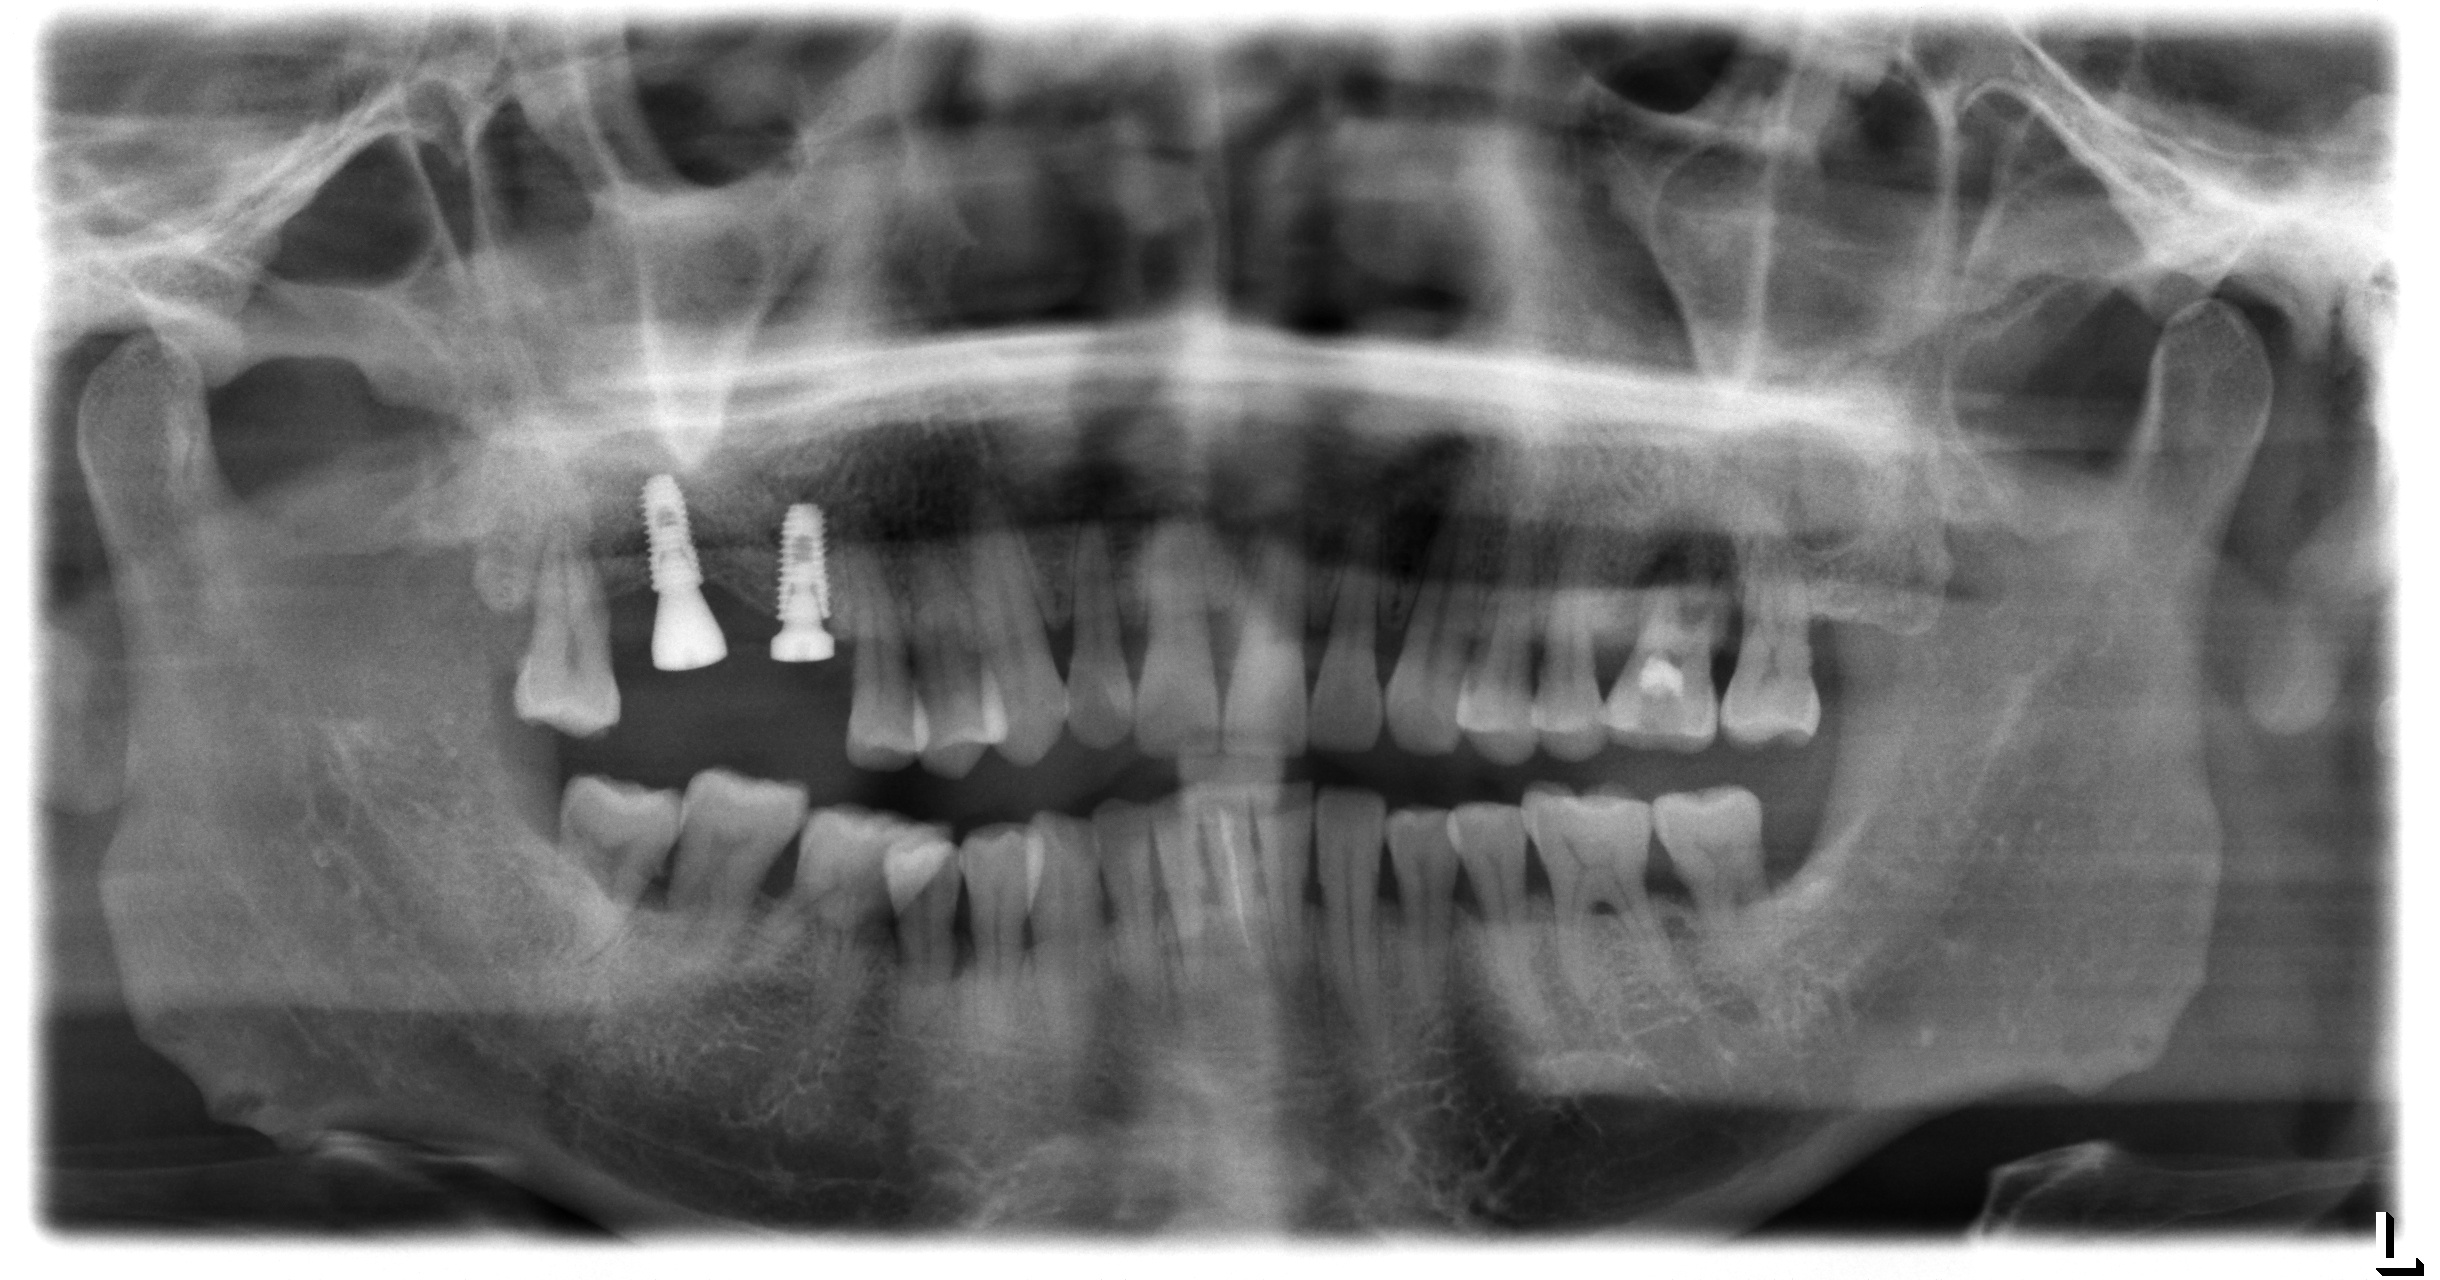Decay: (1619, 684, 1691, 749)
